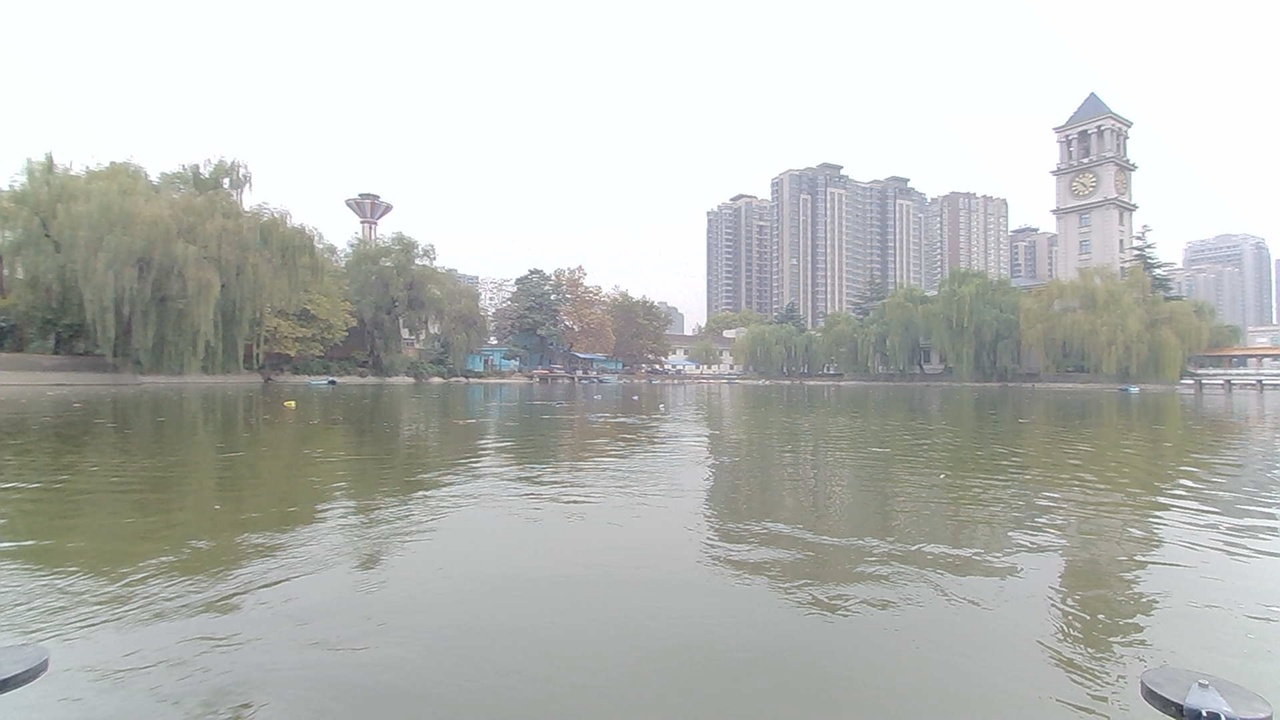bottle: (585, 383, 626, 405), (282, 395, 313, 418), (655, 394, 681, 414), (619, 385, 645, 404)
